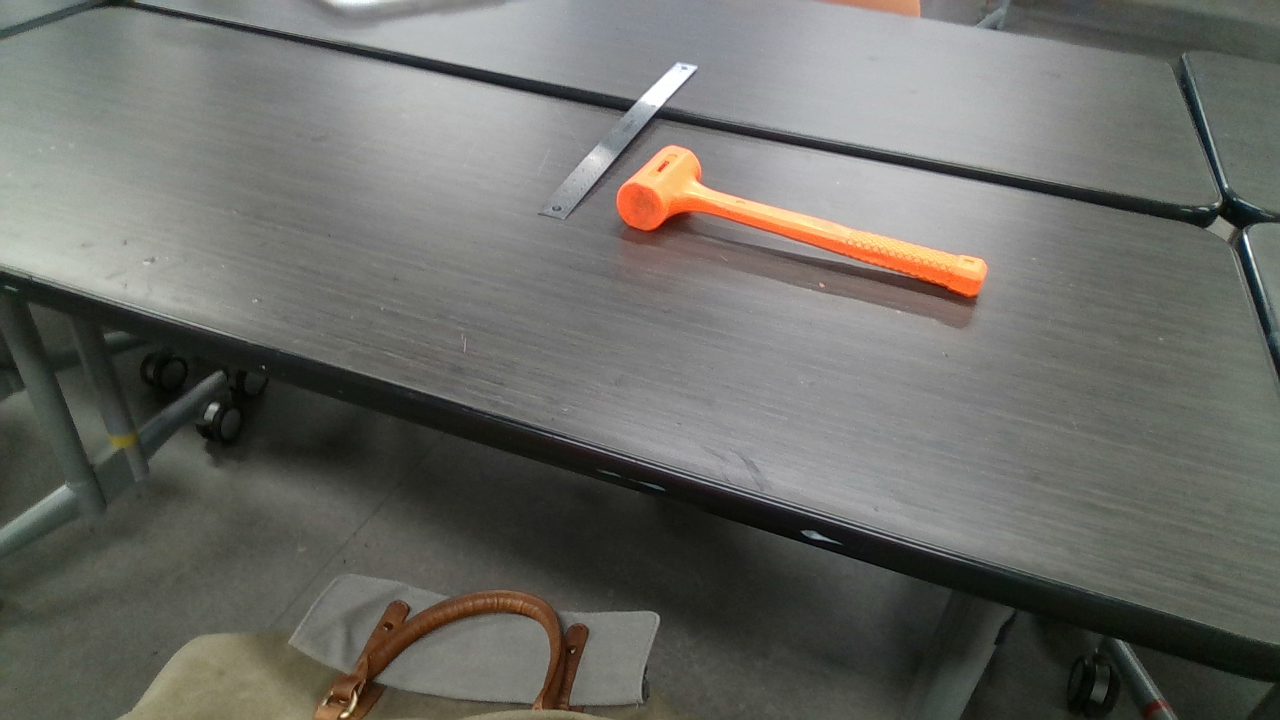Orange Hammer: (621, 145, 985, 296)
